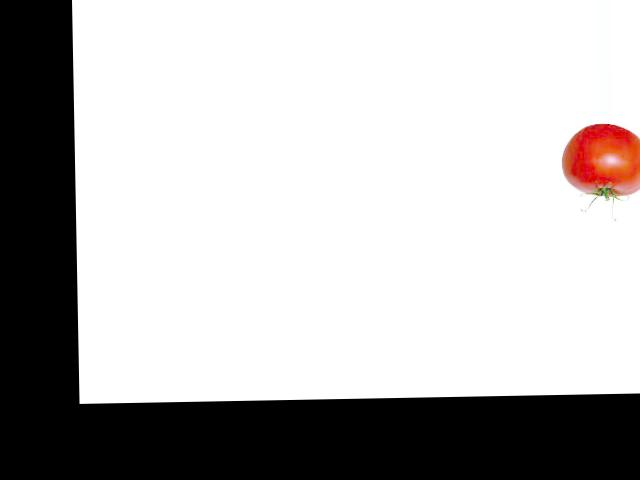tomato: (561, 122, 640, 197)
